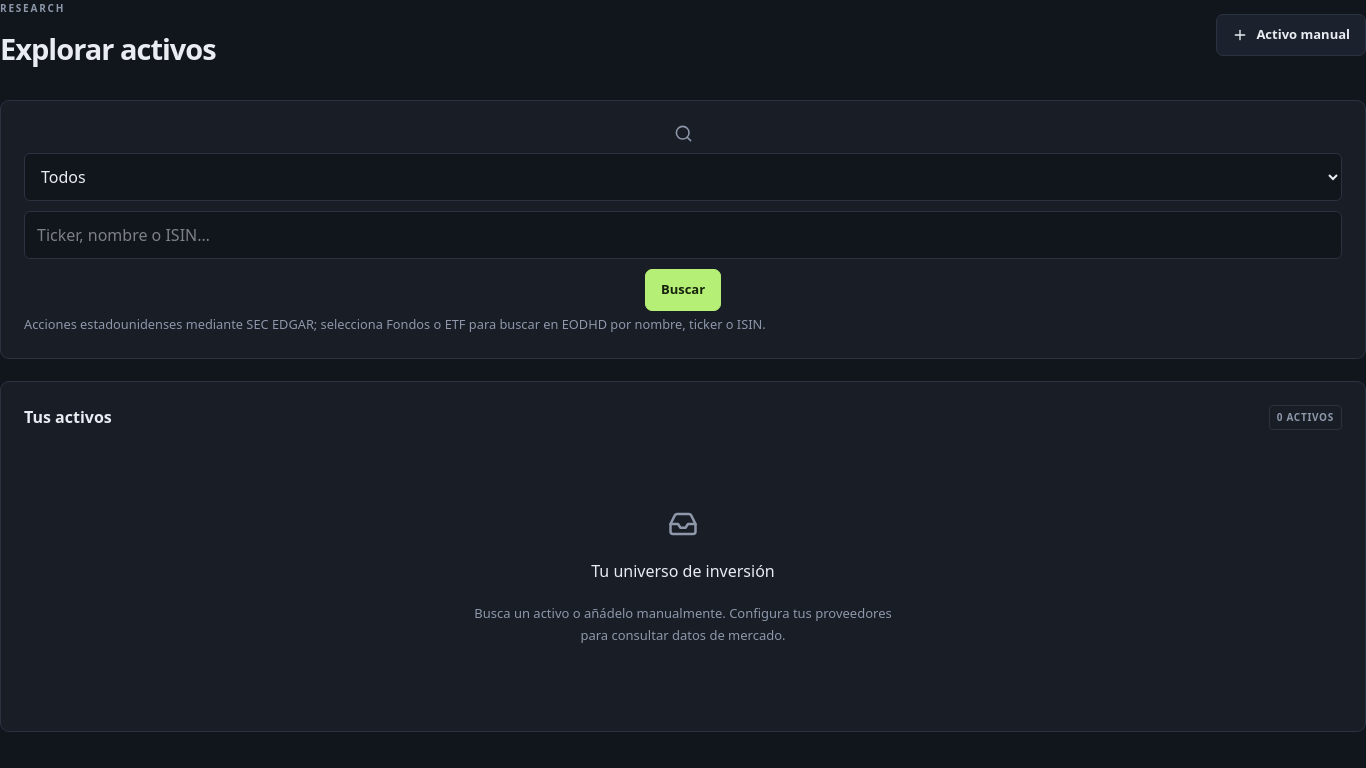
search preserves empty results and exposes provider warnings
Type "AAPL" into the field named "Buscar activos" at (683, 235), box top-left (24, 211), bottom-right (1342, 259)
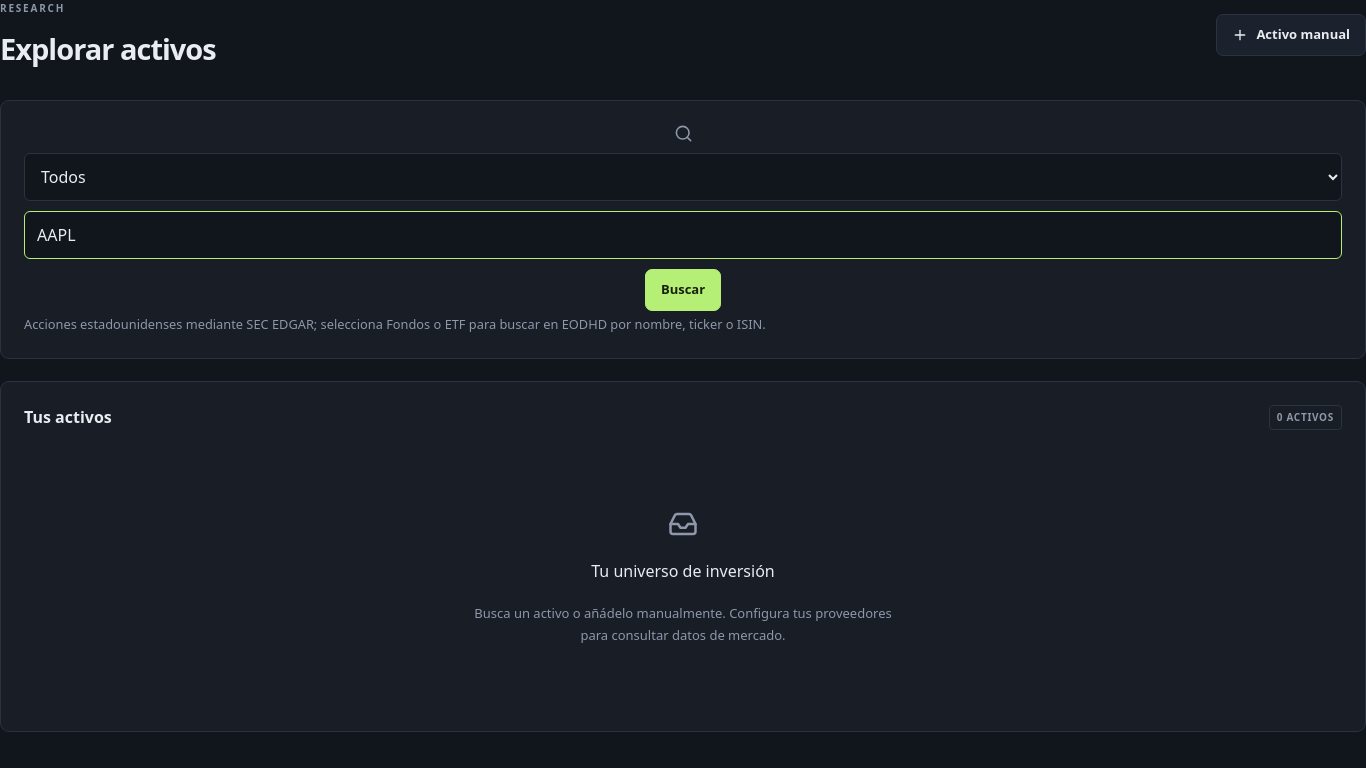
Click the button "Buscar" at (683, 290), box top-left (645, 269), bottom-right (721, 310)
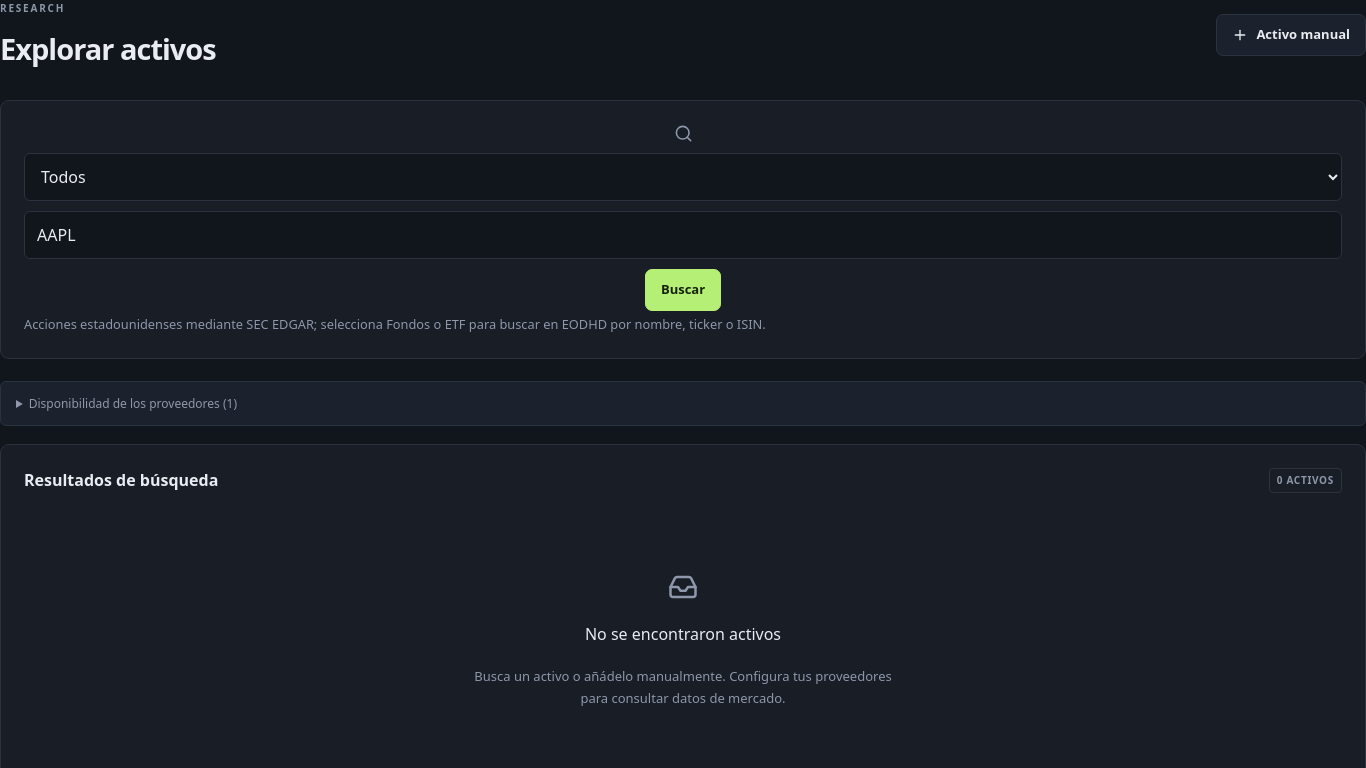
Now the heading "No se encontraron activos" is shown, box top-left (585, 622), bottom-right (781, 646)
